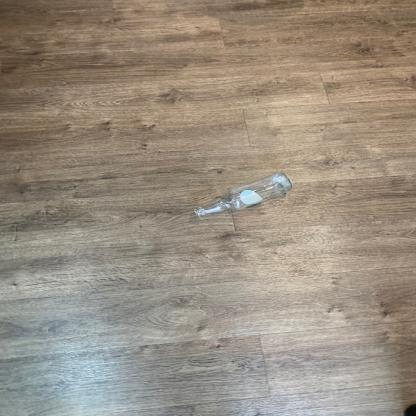trash: (189, 170, 292, 221)
